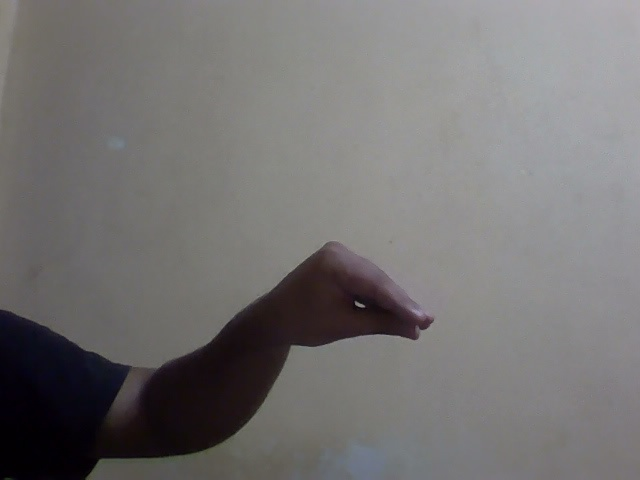No: (228, 231, 462, 377)
